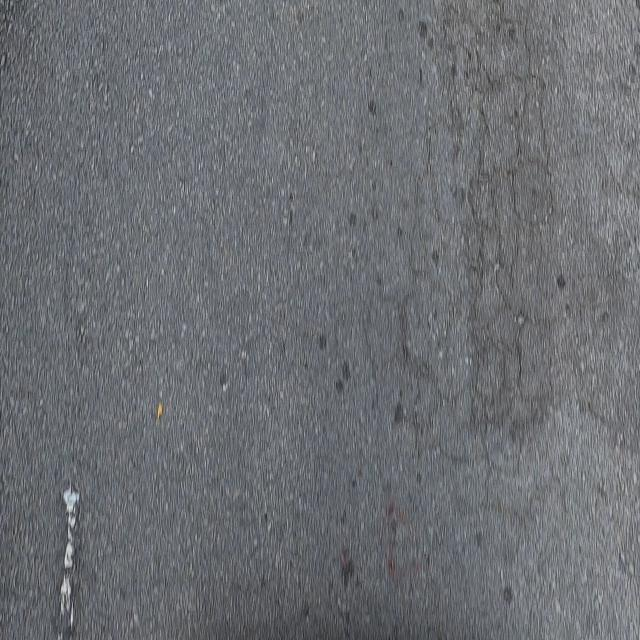Retak-Buaya: (397, 2, 562, 482)
